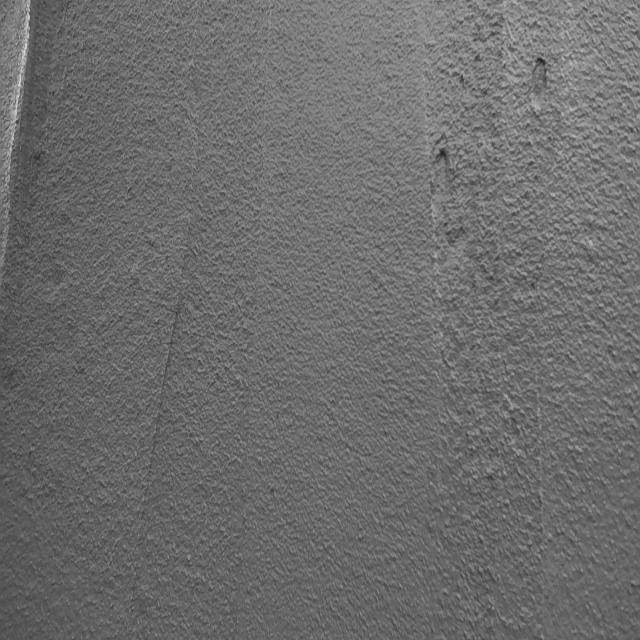trowels marks: (139, 214, 189, 616)
